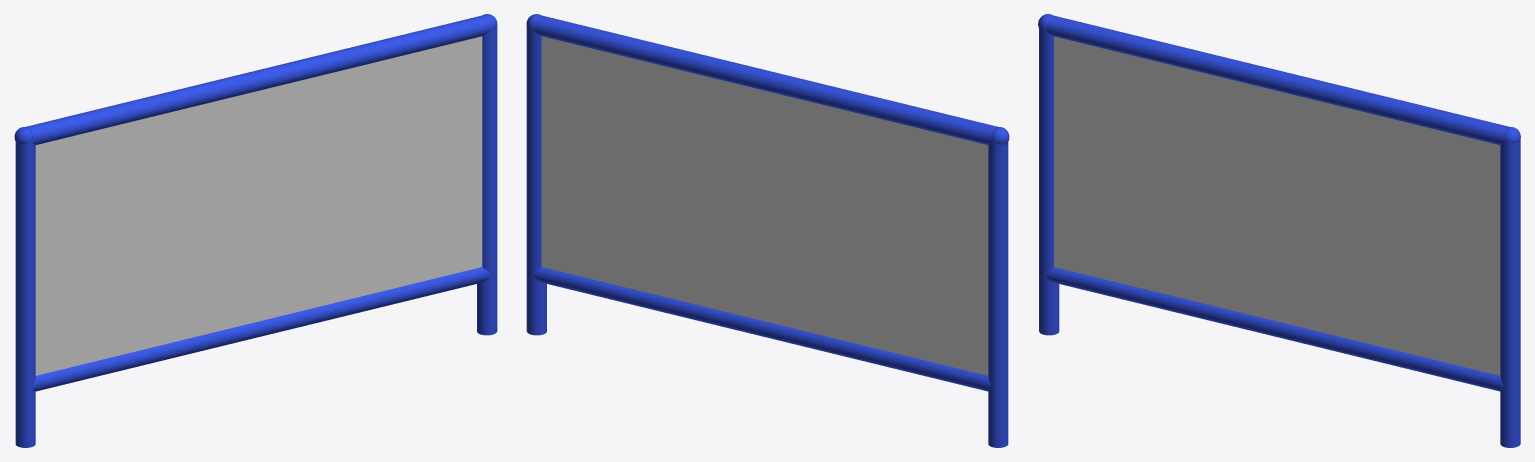
Rendered from pokemon-bord.glb.
The picture shows the model from 3 angles, left to right: view 1: azimuth 30°, elevation 25°; view 2: azimuth 150°, elevation 25°; view 3: azimuth 330°, elevation 25°; orthographic projection.
Visible parts, largest first — view 1: Cube.001, Cylinder.001, Cylinder.003, Cylinder.002, Cylinder; view 2: Cube.001, Cylinder.001, Cylinder.003, Cylinder.002, Cylinder; view 3: Cube.001, Cylinder.001, Cylinder.003, Cylinder, Cylinder.002.
Boxes of the visible parts, bbox=[...] form: Cube.001: bbox=[35, 36, 482, 375]; Cylinder.001: bbox=[26, 15, 490, 144]; Cylinder.003: bbox=[33, 267, 490, 391]; Cylinder.002: bbox=[15, 139, 35, 447]; Cylinder: bbox=[477, 27, 497, 335]; Cube.001: bbox=[541, 36, 988, 375]; Cylinder.001: bbox=[533, 15, 997, 144]; Cylinder.003: bbox=[533, 267, 990, 391]; Cylinder.002: bbox=[988, 139, 1008, 447]; Cylinder: bbox=[526, 27, 546, 335]; Cube.001: bbox=[1054, 36, 1500, 375]; Cylinder.001: bbox=[1046, 15, 1509, 144]; Cylinder.003: bbox=[1046, 267, 1504, 391]; Cylinder: bbox=[1500, 140, 1520, 447]; Cylinder.002: bbox=[1039, 27, 1059, 335].
Bounding box in the file's own units: 1.64 × 1.03 × 0.06.
